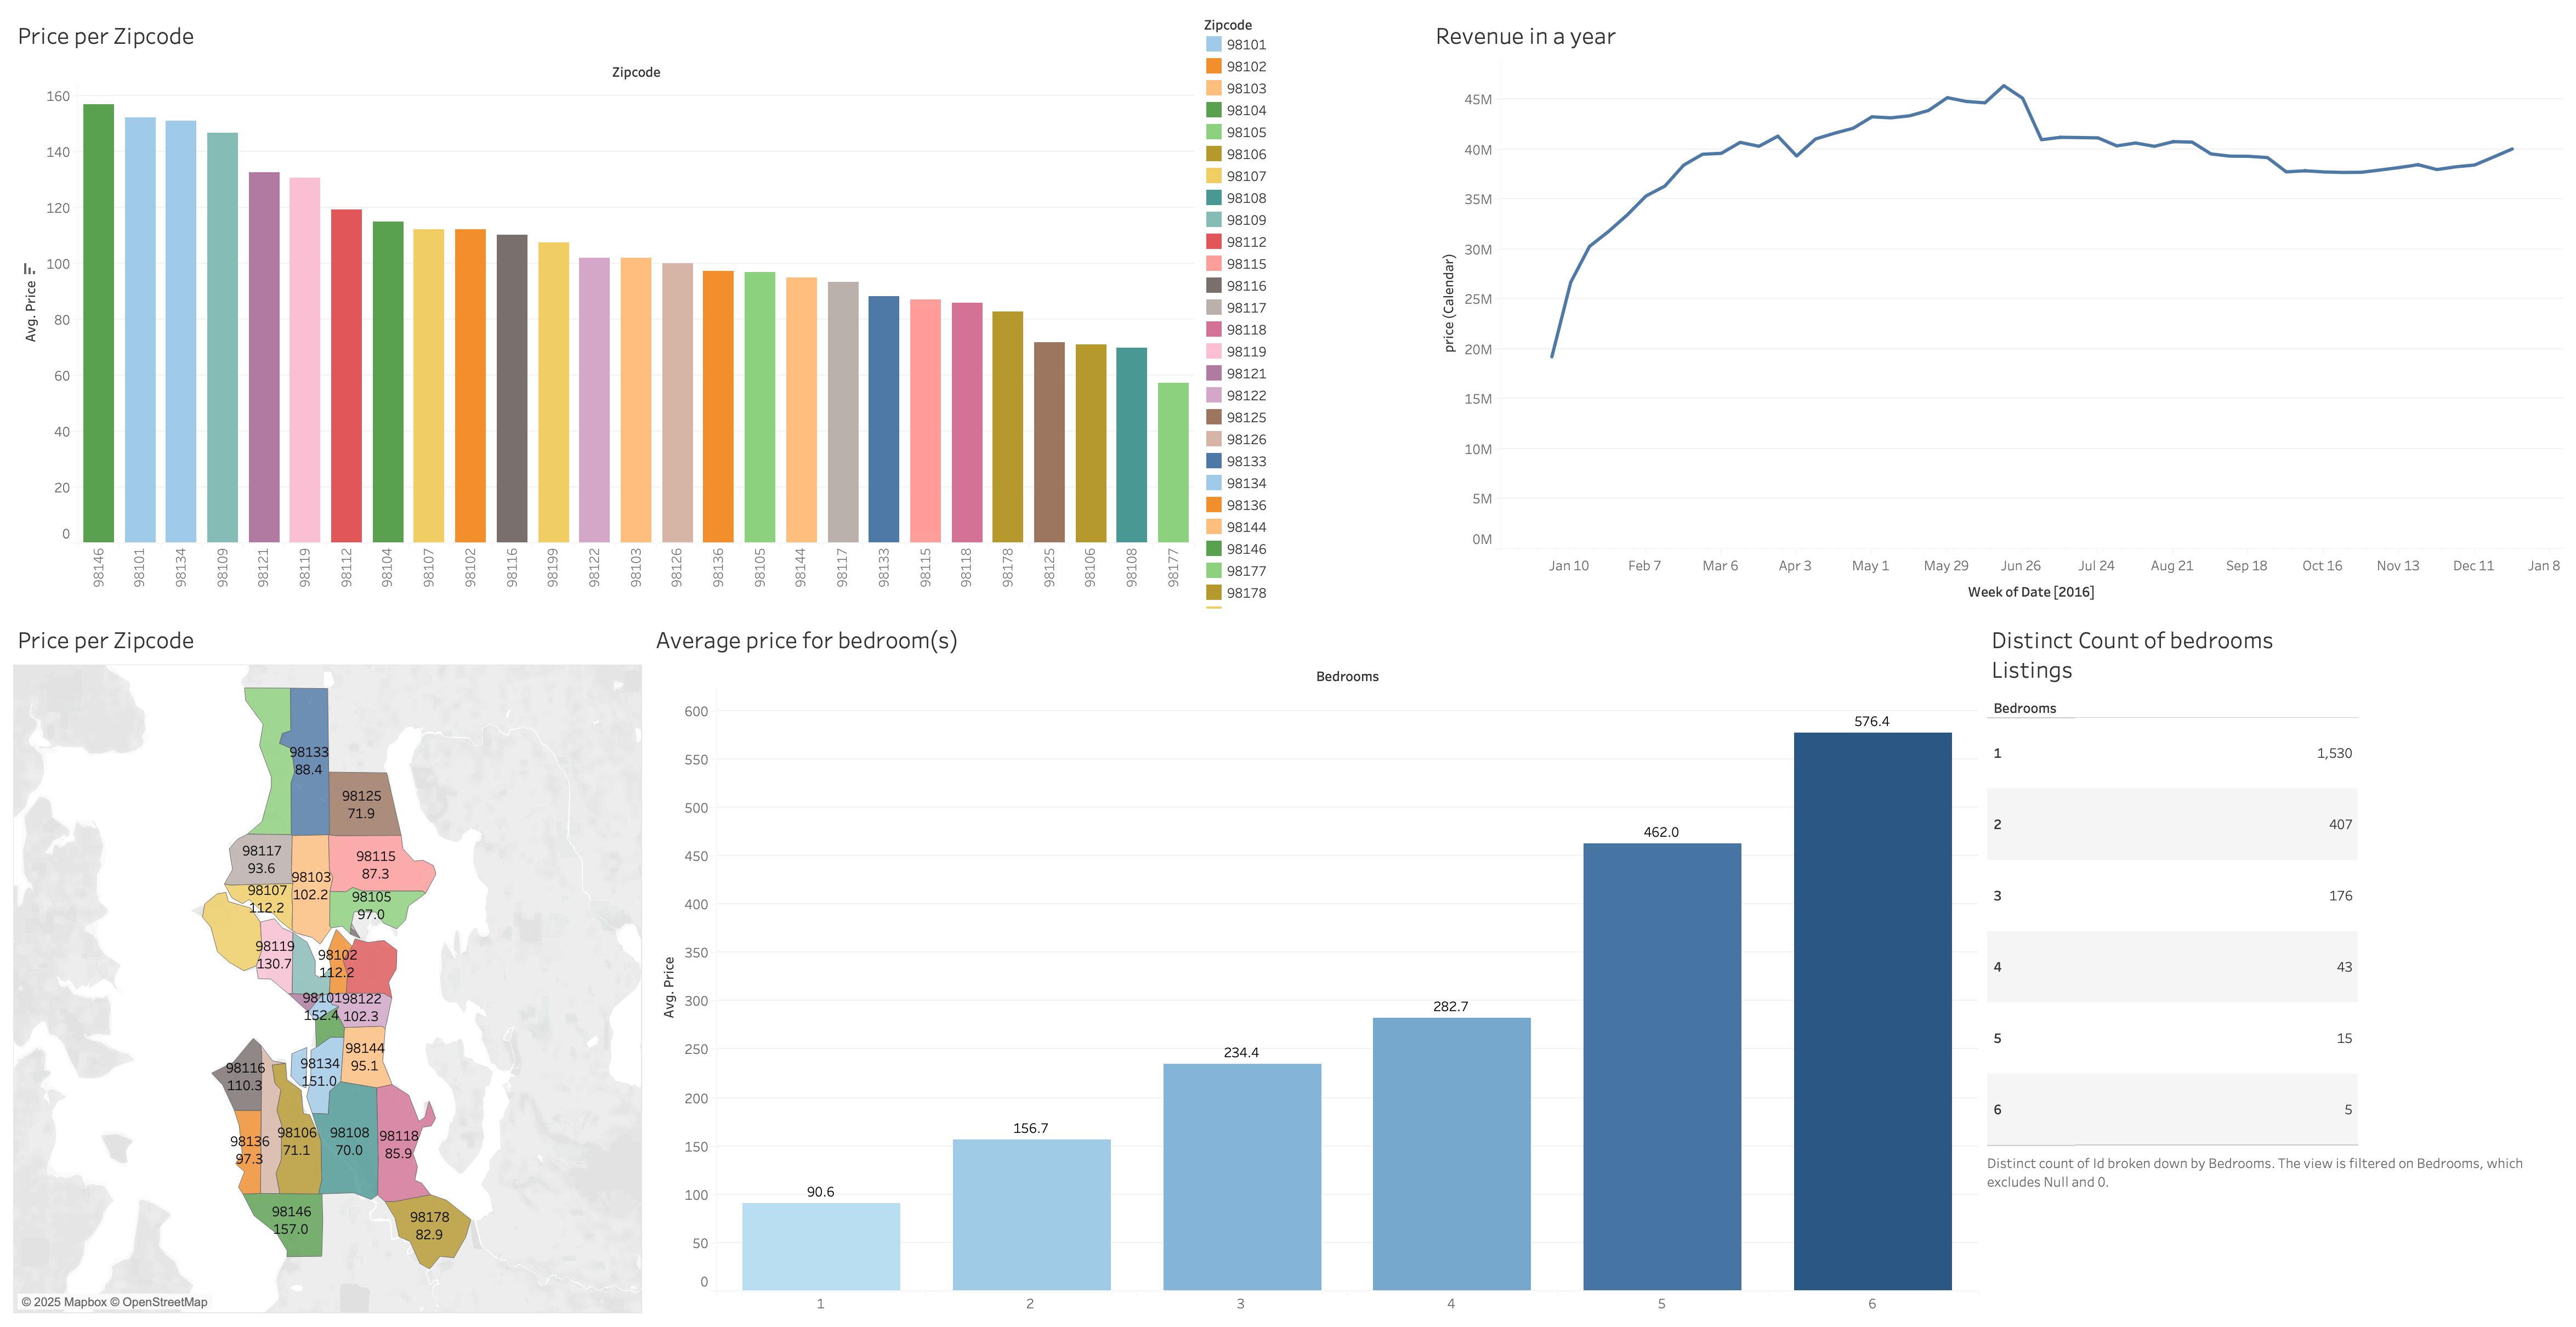

What the dashboard file says about the page in this screenshot:
{"tool":"tableau","page":{"name":"Dashboard 1","canvas":[1000,1000],"units":"permille","ordinal":0},"visuals":[{"type":"worksheet","title":"Sheet 1","mark":"Automatic","rows":["price"],"cols":["zipcode"],"box":[3.9,6.4,461.6,455.4]},{"type":"legend","title":"Sheet 1","param":"[federated.1yx9ayc1xkolac1ezj5e81autoxv].[none:zipcode:ok]","box":[465.5,6.4,88.2,455.4]},{"type":"worksheet","title":"Sheet 3","mark":"Automatic","rows":["price (Calendar)"],"cols":["date"],"box":[553.7,6.4,442.4,455.4]},{"type":"worksheet","title":"Sheet 2","mark":"Multipolygon","box":[3.9,461.8,247.4,531.9]},{"type":"worksheet","title":"Sheet 4","mark":"Automatic","rows":["price"],"cols":["bedrooms"],"box":[251.3,461.8,518,531.9]},{"type":"worksheet","title":"Sheet 5","mark":"Automatic","rows":["bedrooms"],"box":[769.3,461.8,226.8,531.9]}]}

Visuals, with their boxes on the dashboard's canvas, which has no fixed pixel size, in thousandths of its width and height (x1, y1, x2, y2). These are canvas units, not pixel positions in the 2576x1327 screenshot, which may show the page scaled, cropped or inside an application window:
"Sheet 1" worksheet: [left=4, top=6, right=466, bottom=462]
"Sheet 1" legend: [left=466, top=6, right=554, bottom=462]
"Sheet 3" worksheet: [left=554, top=6, right=996, bottom=462]
"Sheet 2" worksheet (Multipolygon marks): [left=4, top=462, right=251, bottom=994]
"Sheet 4" worksheet: [left=251, top=462, right=769, bottom=994]
"Sheet 5" worksheet: [left=769, top=462, right=996, bottom=994]
